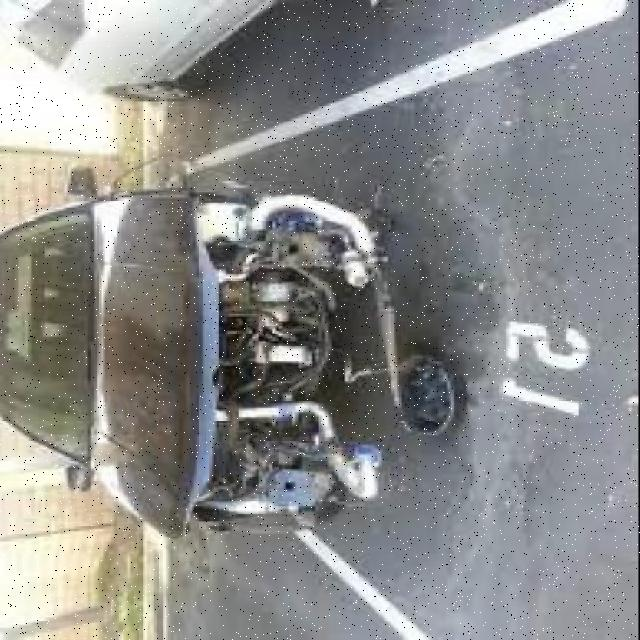damage: (174, 190, 396, 542)
